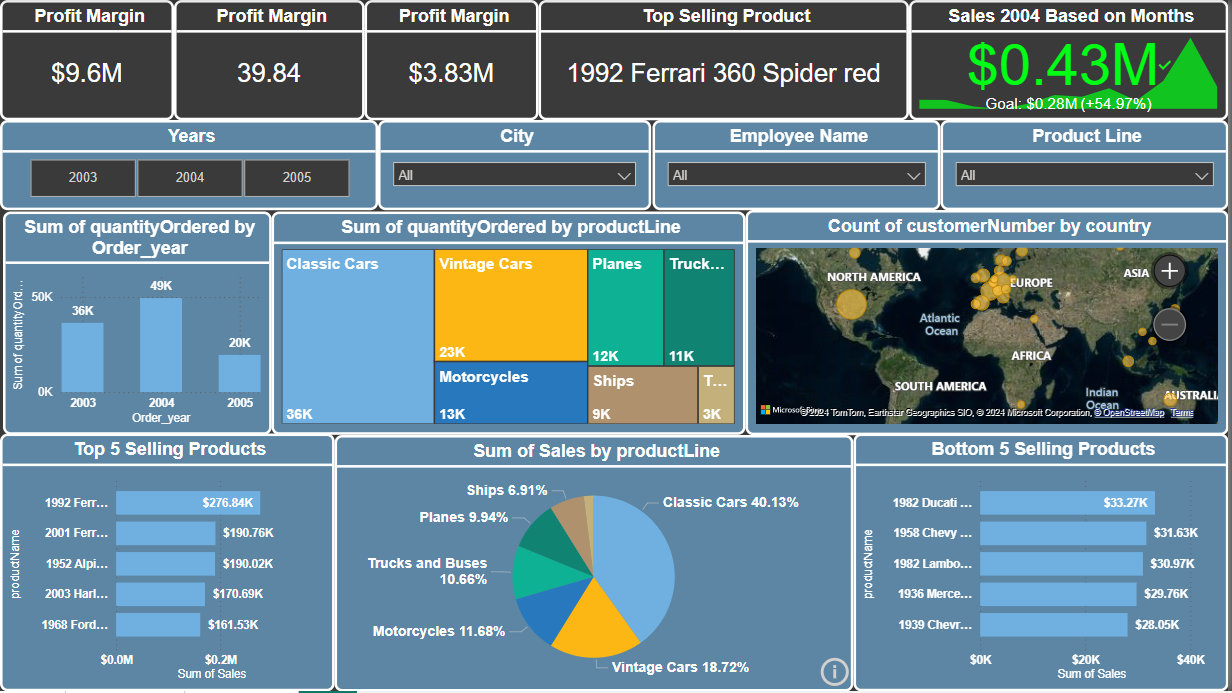

This screenshot's page, from the dashboard's own definition file:
{"tool":"powerbi","page":{"name":"Page 1","canvas":[1280,720],"ordinal":0},"visuals":[{"type":"card","title":"Profit Margin","fields":{"Values":["Order Details.Total_profit"]},"box":[379.8,0,181.3,125],"z":0},{"type":"card","title":"Top Selling Product","fields":{"Values":["Order Details.MostOrderedProduct"]},"box":[561.1,0,386.1,125],"z":1000},{"type":"barChart","title":"Top 5 Selling Products","fields":{"Category":["Products.productName"],"Y":["Sum(Order Details.Sales)"]},"box":[0,451.7,348.5,268.8],"z":2000},{"type":"pieChart","fields":{"Category":["Product Lines.productLine"],"Y":["Sum(Order Details.Sales)"]},"box":[348.5,453.3,540.8,267.3],"z":3000},{"type":"slicer","title":"Years","fields":{"Values":["Orders.Order_year"]},"box":[0,125,393.9,93.8],"z":4000},{"type":"kpi","title":"Sales 2004 Based on Months","fields":{"Indicator":["Orders.sales_2004"],"Goal":["Orders.sales_2003"],"TrendLine":["Orders.Month Name"]},"box":[947.2,0,332.9,125],"z":5000},{"type":"map","fields":{"Size":["CountNonNull(Customers.customerNumber)"],"Category":["Customers.country"]},"box":[776.8,218.8,503.3,234.4],"z":6000},{"type":"treemap","fields":{"Group":["Products.productLine"],"Values":["Sum(Order Details.quantityOrdered)"]},"box":[282.9,220.4,493.9,232.9],"z":7000},{"type":"columnChart","fields":{"Category":["Orders.Order_year"],"Y":["Sum(Order Details.quantityOrdered)"]},"box":[3.1,220.4,279.8,232.9],"z":8000},{"type":"card","title":"Profit Margin","fields":{"Values":["Order Details.Profit_Margin_%"]},"box":[181.3,0,198.5,125],"z":9000},{"type":"card","title":"Profit Margin","fields":{"Values":["Sum(Order Details.Sales)"]},"box":[0,0,181.3,125],"z":10000},{"type":"slicer","title":"City","fields":{"Values":["Employees.city"]},"box":[393.9,125,284.5,93.8],"z":11000},{"type":"slicer","title":"Employee Name","fields":{"Values":["Employees.EmployeeFullName"]},"box":[679.9,125,300.1,93.8],"z":12000},{"type":"slicer","title":"Product Line","fields":{"Values":["Products.productLine"]},"box":[980,125,300.1,93.8],"z":13000},{"type":"barChart","title":"Bottom 5 Selling Products","fields":{"Category":["Products.productName"],"Y":["Sum(Order Details.Sales)"]},"box":[889.3,451.7,390.7,268.8],"z":14000},{"type":"actionButton","box":[850.3,679.9,39.1,40.6],"z":15000}]}

Visuals, with their boxes in screenshot pixels (x1, y1, x2, y2), scaled from the page's 1280x720 canvas onto the 1232x693 screenshot:
"Profit Margin" card: [366,0,540,120]
"Top Selling Product" card: [540,0,912,120]
"Top 5 Selling Products" barChart: [0,435,335,692]
pieChart - Product Lines.productLine x Sum(Order Details.Sales): [335,436,856,692]
"Years" slicer: [0,120,379,211]
"Sales 2004 Based on Months" kpi: [912,0,1231,120]
map - CountNonNull(Customers.customerNumber) x Customers.country: [748,211,1231,436]
treemap - Products.productLine x Sum(Order Details.quantityOrdered): [272,212,748,436]
columnChart - Orders.Order_year x Sum(Order Details.quantityOrdered): [3,212,272,436]
"Profit Margin" card: [175,0,366,120]
"Profit Margin" card: [0,0,175,120]
"City" slicer: [379,120,653,211]
"Employee Name" slicer: [654,120,943,211]
"Product Line" slicer: [943,120,1231,211]
"Bottom 5 Selling Products" barChart: [856,435,1231,692]
actionButton: [818,654,856,692]
